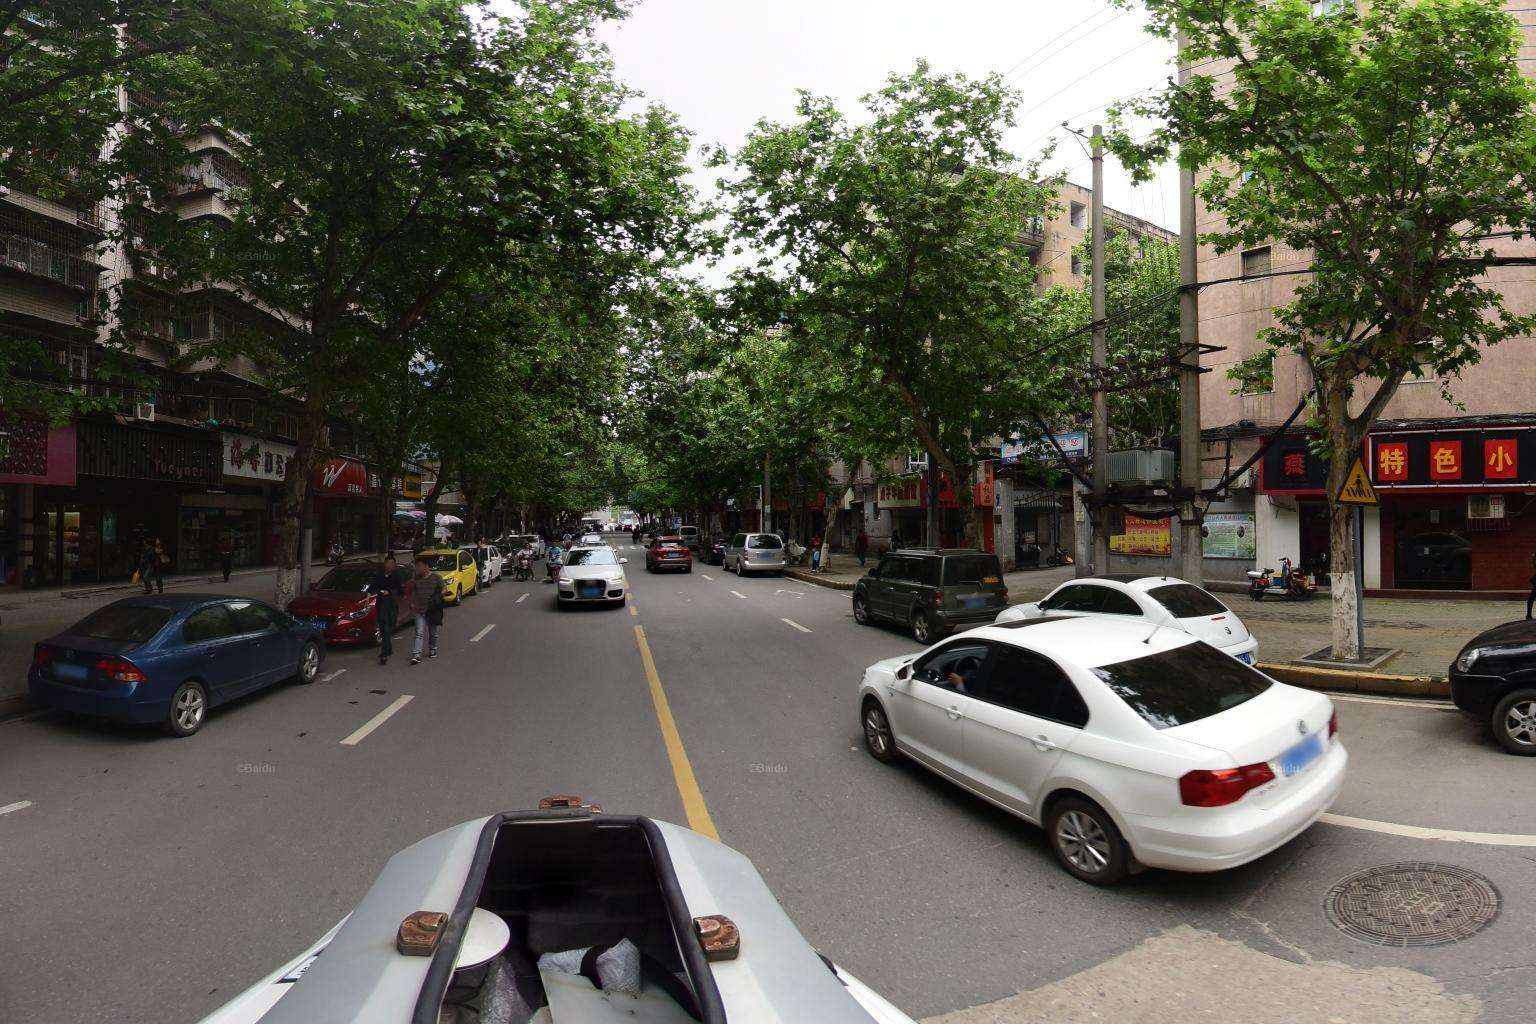car: (818, 555, 1381, 896), (363, 807, 760, 1017), (17, 577, 344, 731), (710, 529, 797, 587)
